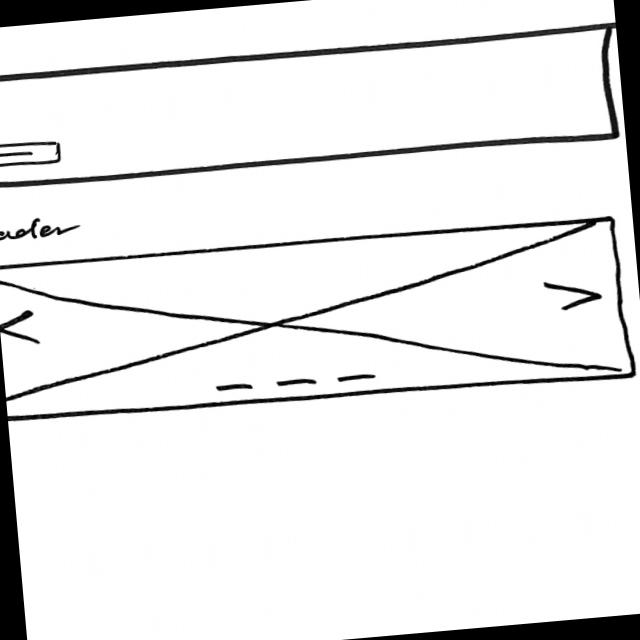container: (1, 20, 621, 196)
icon-button: (1, 135, 64, 168)
image: (1, 209, 636, 434)
label: (1, 216, 82, 246)
